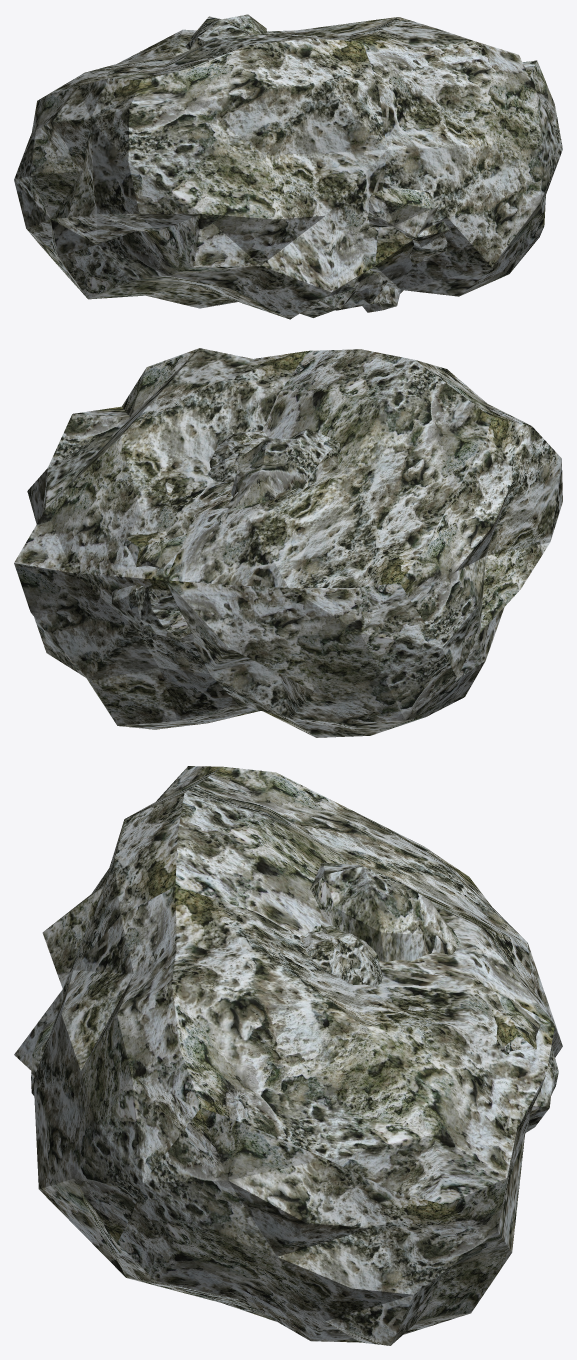
Rendered from LotAsteroids.obj.
3 views of the same model, one above another, from view 1: azimuth 30°, elevation 25°; view 2: azimuth 150°, elevation 25°; view 3: azimuth 270°, elevation 25° (orthographic). The views are drawn at different scales.
Visible parts, largest first — view 1: Stone.036_Cube.001, Stone.036_Cube.000, Stone.025_Cube; view 2: Stone.036_Cube.001, Stone.036_Cube.000, Stone.025_Cube, Stone.027_Cube.002, Stone.031_Cube.006; view 3: Stone.036_Cube.001, Stone.036_Cube.000, Stone.025_Cube, Stone.031_Cube.006, Stone.027_Cube.002.
Part boxes in pixels (x1,y1,x2,y2): Stone.036_Cube.001: (41, 17, 562, 317); Stone.036_Cube.000: (14, 39, 553, 319); Stone.025_Cube: (185, 14, 449, 312); Stone.036_Cube.001: (14, 348, 561, 720); Stone.036_Cube.000: (14, 388, 562, 737); Stone.025_Cube: (112, 429, 340, 642); Stone.027_Cube.002: (208, 430, 268, 481); Stone.031_Cube.006: (209, 431, 263, 468); Stone.036_Cube.001: (14, 766, 562, 1345); Stone.036_Cube.000: (44, 808, 561, 1345); Stone.025_Cube: (31, 863, 558, 1132); Stone.031_Cube.006: (303, 934, 363, 984); Stone.027_Cube.002: (299, 931, 382, 986).
Size of the model in its own units: 6.67 by 4.61 by 5.25.
Materials: 2 (2 with a texture image).
